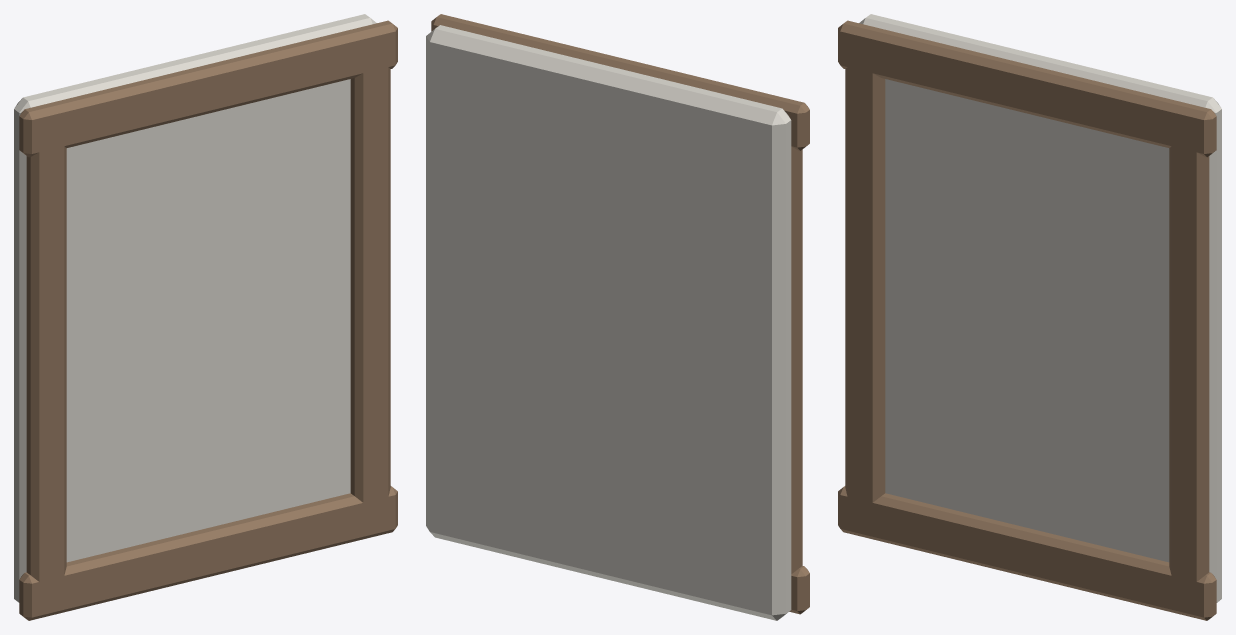
File: feudal-japan-castle-town-plaster-wall-panel-8df51691__26362.glb
3 renders of one model, left to right at view 1: azimuth 30°, elevation 25°; view 2: azimuth 150°, elevation 25°; view 3: azimuth 330°, elevation 25°, orthographic.
Parts seen in each view (by area): view 1: plaster-wall-panel; view 2: plaster-wall-panel; view 3: plaster-wall-panel.
Boxes of the visible parts, x1,y1,x2,y2 form: plaster-wall-panel: (14, 14, 397, 620); plaster-wall-panel: (426, 14, 809, 620); plaster-wall-panel: (838, 14, 1221, 620).
Bounding box in the file's own units: 2.08 × 2.7 × 0.2399.
